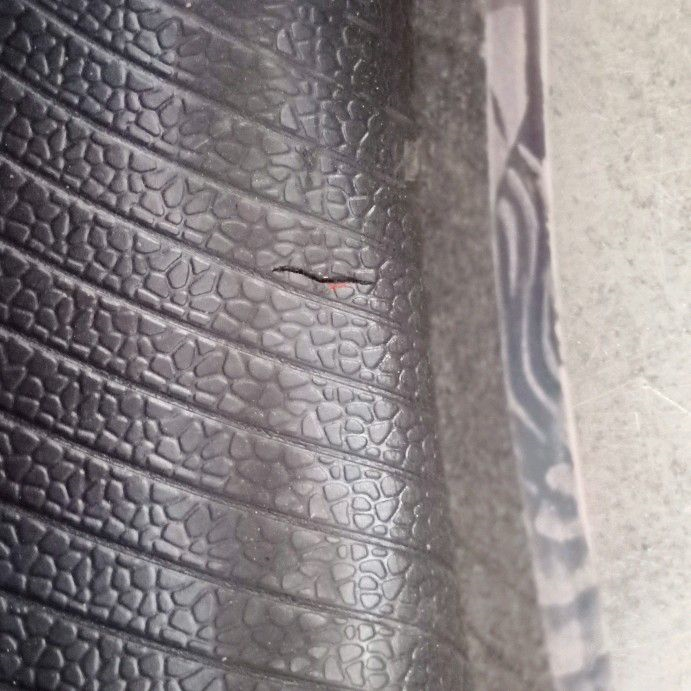CBU: (261, 257, 382, 295)
